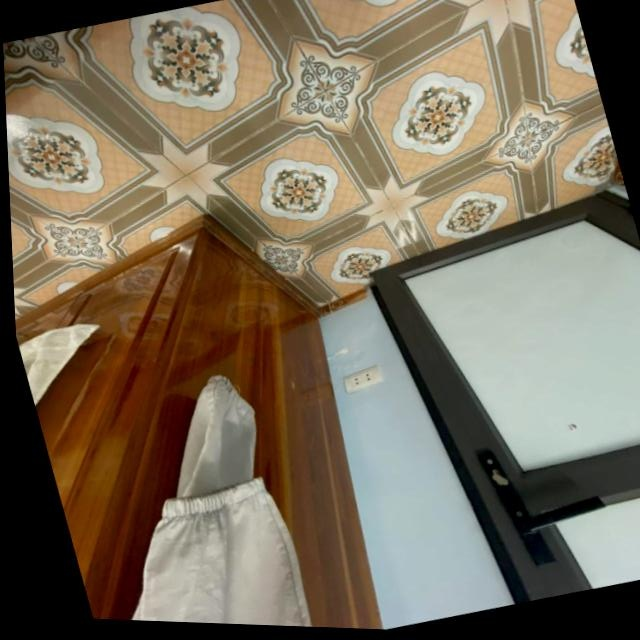outlet: (341, 362, 387, 395)
